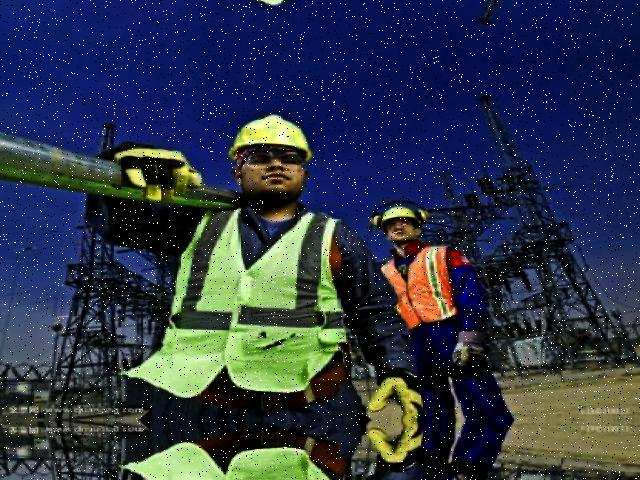Helmet: (220, 106, 320, 163), (363, 193, 432, 232)
